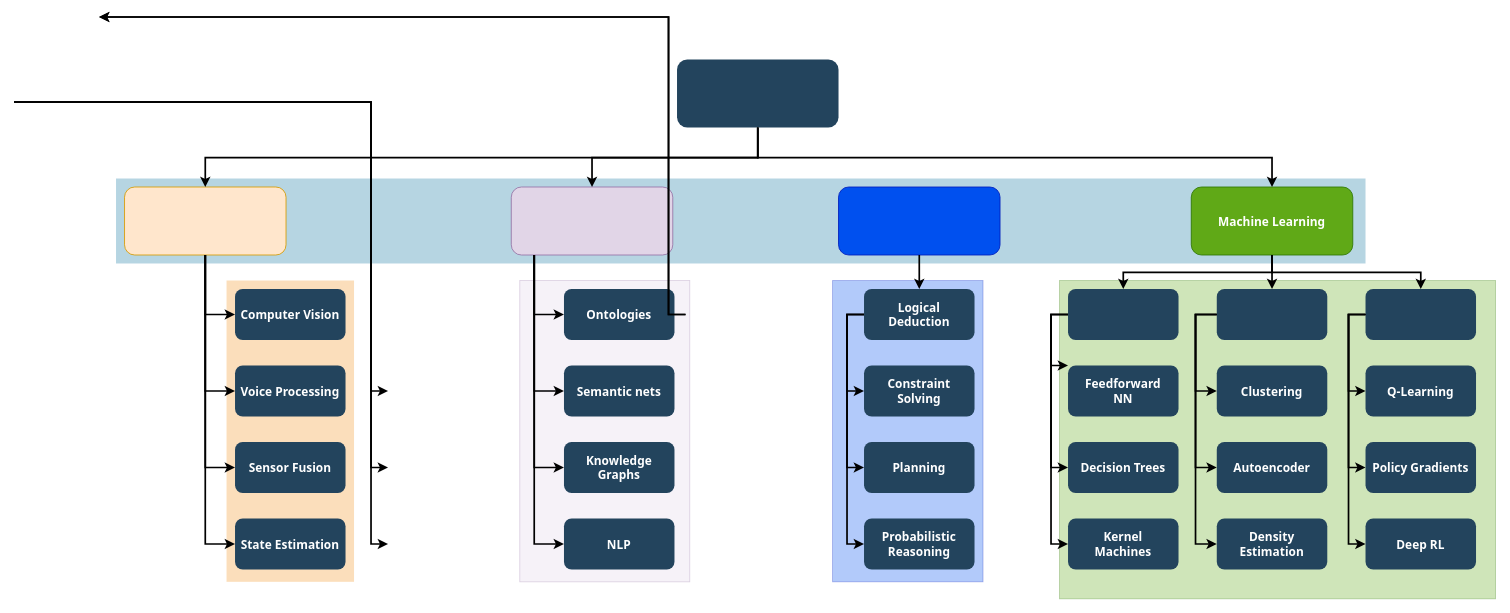
Some shapes in this 1510 by 613 pixel diagram are drawn without their labels. The shapes that lost their labels are listed below. From the top down, each one's centre as x and y in pixels, then its label:
At (x=757, y=93): "Artificial Intelligence".
At (x=205, y=220): "Perception".
At (x=591, y=220): "Knowledge Representation".
At (x=919, y=220): "Search, Reasoning, Problem Solving".
At (x=1123, y=314): "Supervised".
At (x=1271, y=314): "Unsupervised".
At (x=1420, y=314): "Reinforcement".
